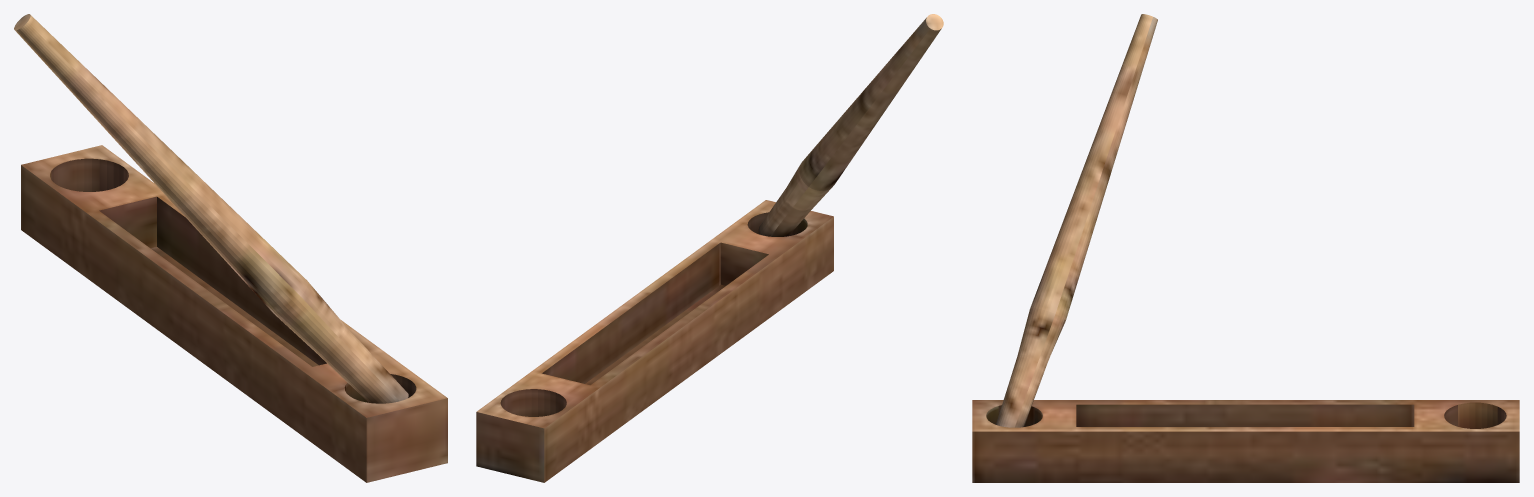
File: mortar.fbx
3 renders of one model, left to right at view 1: azimuth 30°, elevation 25°; view 2: azimuth 150°, elevation 25°; view 3: azimuth 270°, elevation 25°, orthographic. The views are drawn at different scales.
Parts seen in each view (by area): view 1: mortar, mortar.001; view 2: mortar, mortar.001; view 3: mortar, mortar.001.
Part boxes in pixels (x1,y1,x2,y2): mortar: [21, 145, 447, 482]; mortar.001: [14, 14, 408, 403]; mortar: [476, 200, 833, 482]; mortar.001: [758, 14, 943, 236]; mortar: [972, 400, 1519, 482]; mortar.001: [996, 14, 1157, 427].
Bounding box in the file's own units: 1459 × 1917 × 2718.
